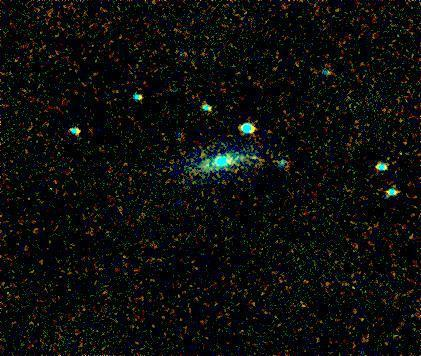star: (237, 144, 267, 174)
